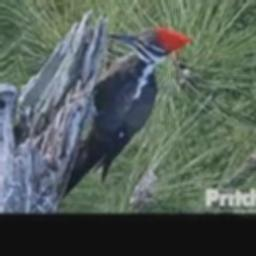Woodpecker: (59, 26, 191, 201)
